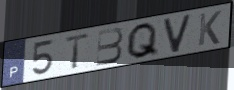5: (31, 38, 55, 77)
B: (95, 26, 125, 67)
K: (197, 9, 223, 48)
Q: (125, 21, 161, 61)
T: (63, 32, 92, 71)
V: (162, 12, 193, 55)
